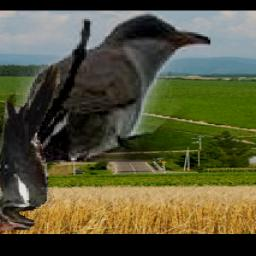Cuckoo: (16, 10, 210, 162)
Woodpecker: (0, 65, 59, 231)
